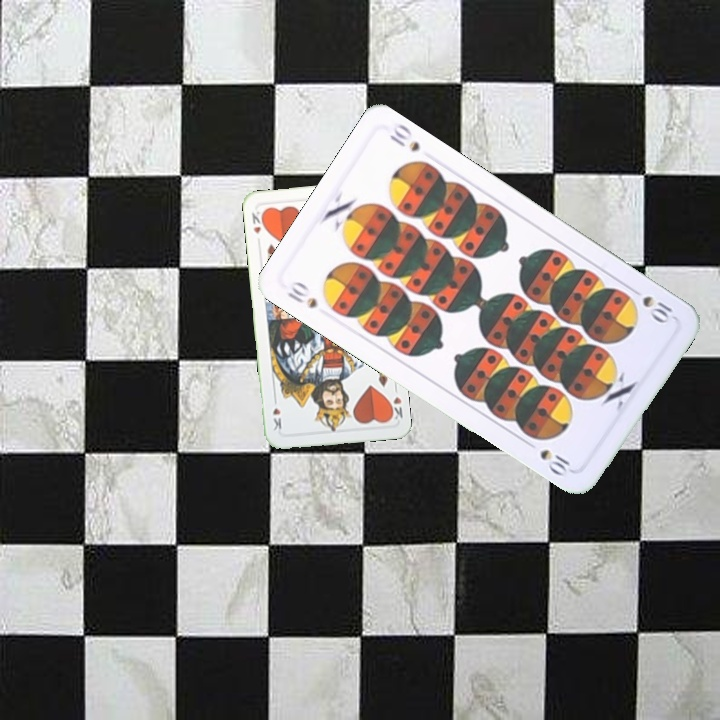HK: (385, 382, 405, 422), (248, 205, 267, 236)
S10: (625, 283, 675, 327), (282, 277, 320, 311)
